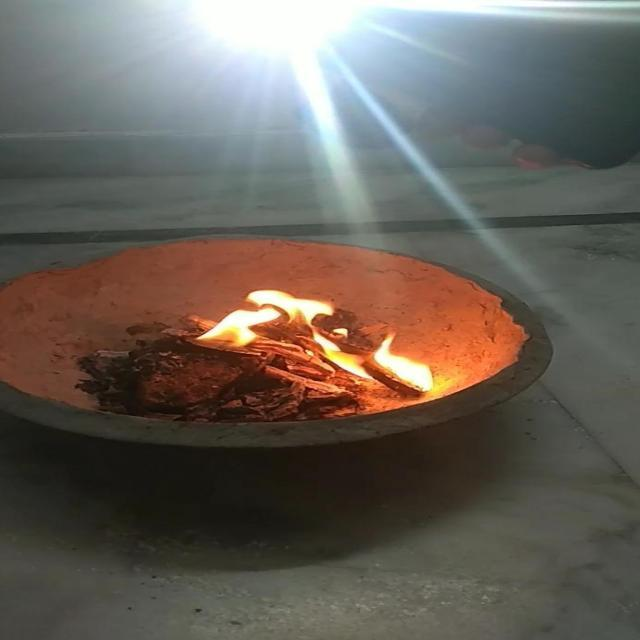smoke: (186, 286, 345, 354), (356, 330, 442, 396)
